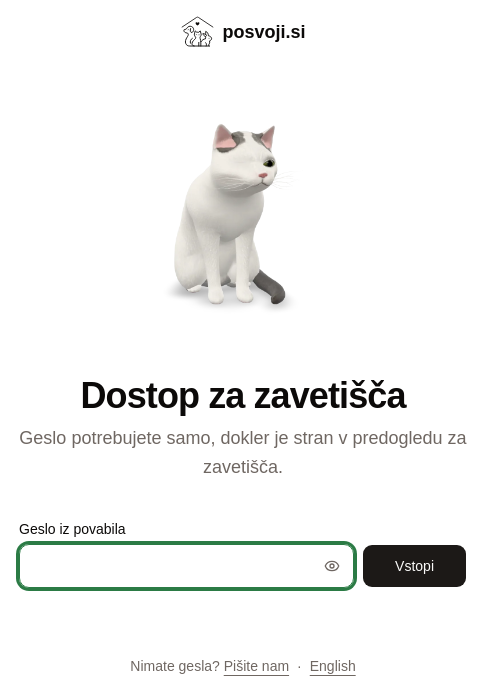
DemoGatePage › refuses an empty password without leaving
Click the button "Vstopi". click: click(415, 566)
box: [362,544,467,588]
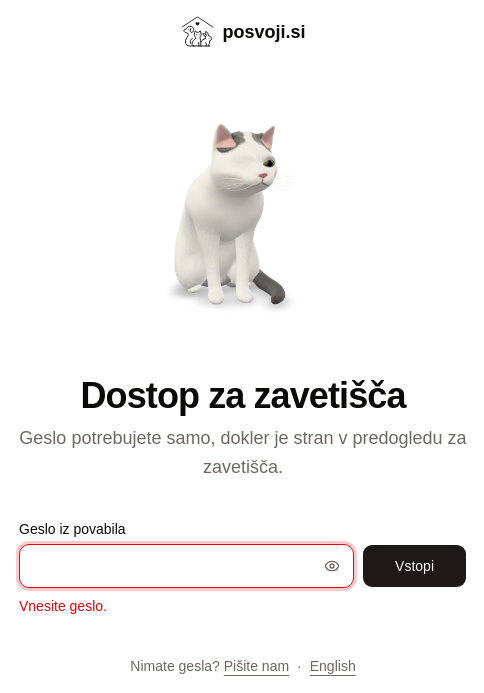
Expected: the message reads "Vnesite geslo.", [19,598,107,614]
